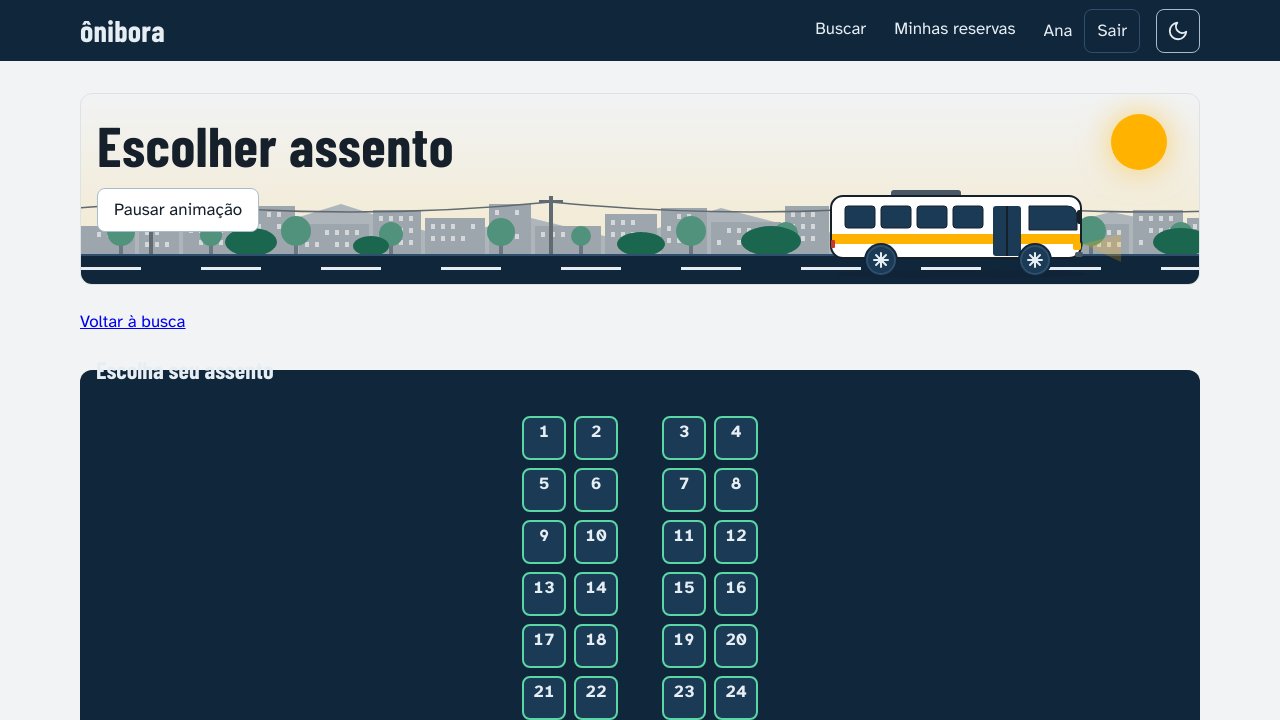
it: TripPage: reservar o assento › reservar pede o hold do assento escolhido e troca a grade pelo painel com o tempo
The image size is (1280, 720).
Click the radio button named "Assento 7, livre": (684, 490) [662,468,706,512]
(page scrolled)
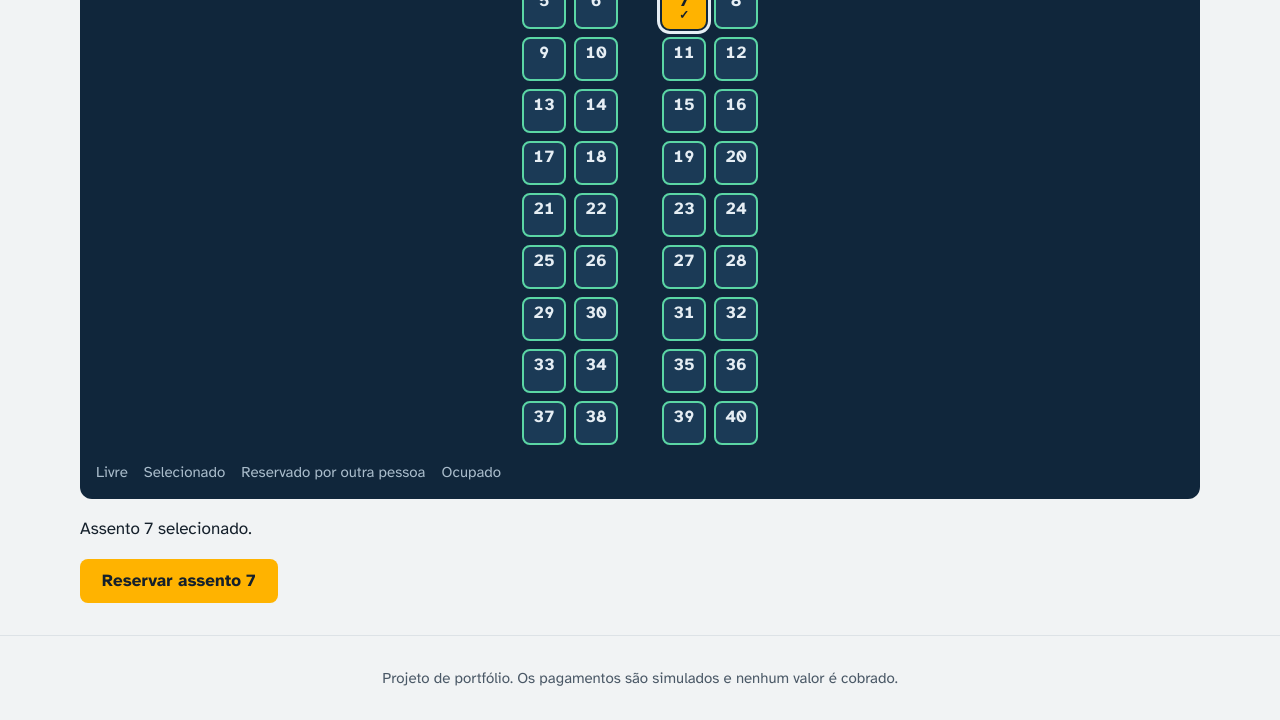
Click the button "Reservar assento 7": (179, 580) [80,558,278,602]
(page scrolled)
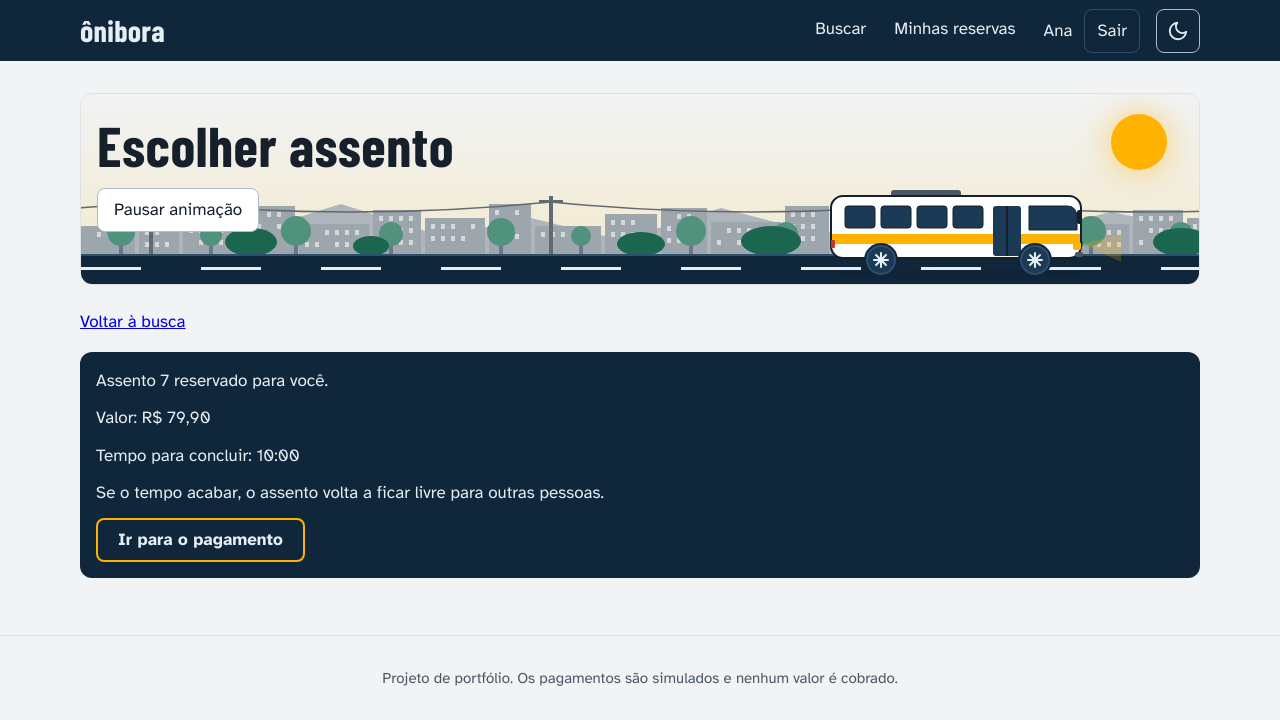
Check: the text "Assento 7 reservado para você." is shown, box [96,368,328,393]
Check: the text "10:00" is shown, box [256,444,300,466]
Check: the button "Reservar assento" is gone
